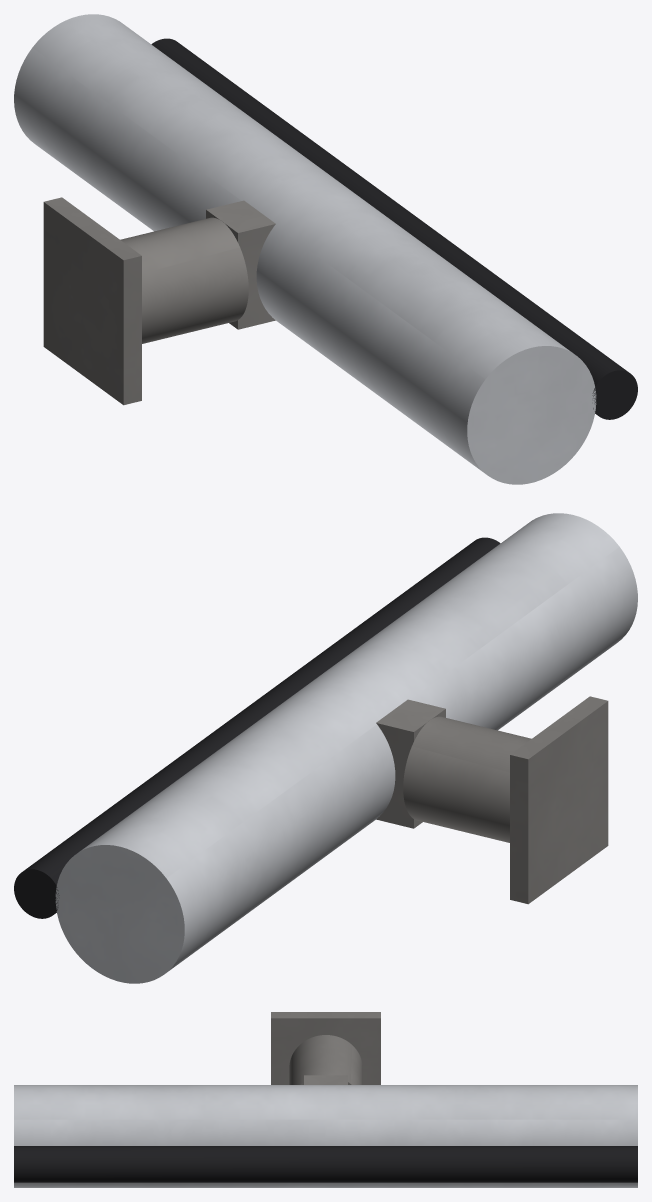
The model's file is power00_rosa_array.glb.
The picture shows the model from 3 angles, top to bottom: view 1: azimuth 30°, elevation 25°; view 2: azimuth 150°, elevation 25°; view 3: azimuth 270°, elevation 25°; orthographic projection. The views are drawn at different scales.
Visible parts, largest first — view 1: roll_canister, sada_base, tip_bar; view 2: roll_canister, sada_base, tip_bar; view 3: roll_canister, tip_bar, sada_base.
Boxes of the visible parts, left/top/right/bottom form: roll_canister: left=14, top=14, right=596, bottom=484; sada_base: left=43, top=197, right=275, bottom=405; tip_bar: left=151, top=38, right=637, bottom=419; roll_canister: left=55, top=513, right=637, bottom=983; sada_base: left=376, top=696, right=608, bottom=904; tip_bar: left=14, top=537, right=500, bottom=918; roll_canister: left=14, top=1085, right=637, bottom=1187; tip_bar: left=14, top=1146, right=637, bottom=1182; sada_base: left=271, top=1012, right=380, bottom=1084.
Bounding box in the file's own units: 0.71 × 0.3 × 1.7.
Materials: 3 (2 with a texture image).
